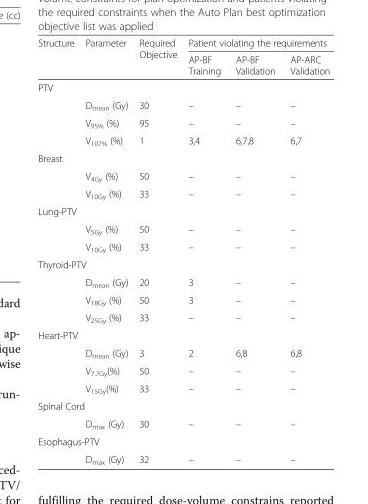table: (37, 36, 329, 465)
table column: (227, 36, 282, 465), (79, 36, 132, 465), (132, 36, 182, 465), (282, 36, 329, 465), (182, 36, 227, 465), (37, 36, 79, 465)
table column header: (37, 36, 329, 78)
table projected row header: (37, 432, 329, 450), (37, 78, 329, 95), (37, 149, 329, 166), (37, 202, 329, 219), (37, 255, 329, 272), (37, 326, 329, 343), (37, 397, 329, 414)
table row: (37, 50, 329, 78), (37, 95, 329, 114), (37, 272, 329, 291), (37, 131, 329, 149), (37, 166, 329, 184), (37, 184, 329, 202), (37, 219, 329, 237), (37, 237, 329, 255), (37, 308, 329, 326), (37, 343, 329, 361), (37, 361, 329, 379), (37, 379, 329, 397), (37, 414, 329, 432), (37, 432, 329, 450), (37, 78, 329, 95), (37, 114, 329, 131), (37, 149, 329, 166), (37, 202, 329, 219), (37, 255, 329, 272), (37, 291, 329, 308), (37, 326, 329, 343), (37, 397, 329, 414), (37, 450, 329, 465), (37, 36, 329, 50)
table spanning cell: (79, 36, 132, 78), (132, 36, 182, 78), (182, 36, 329, 50), (37, 36, 79, 78)
